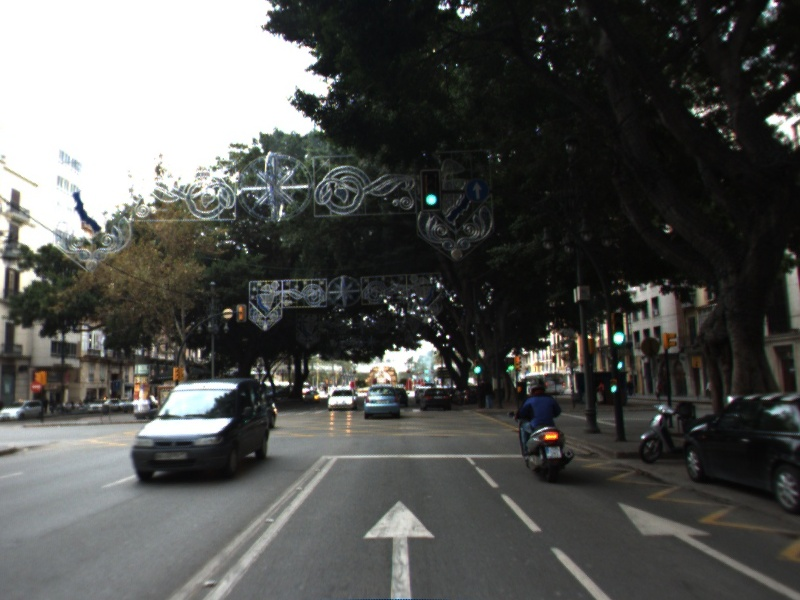STRAIGHT: (612, 498, 800, 600), (358, 495, 438, 600)
